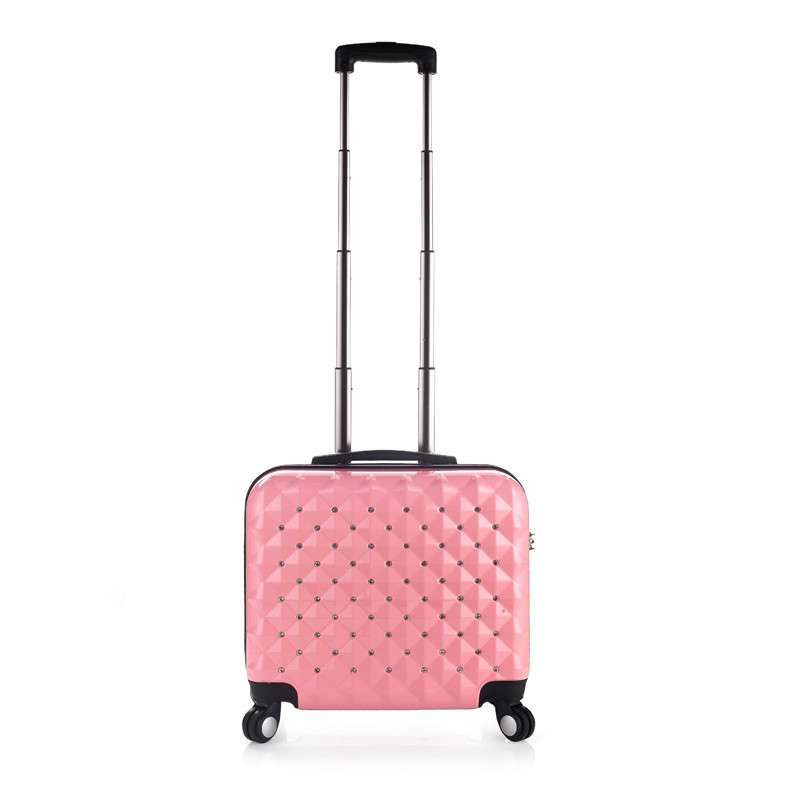suitcase: (236, 41, 538, 743)
